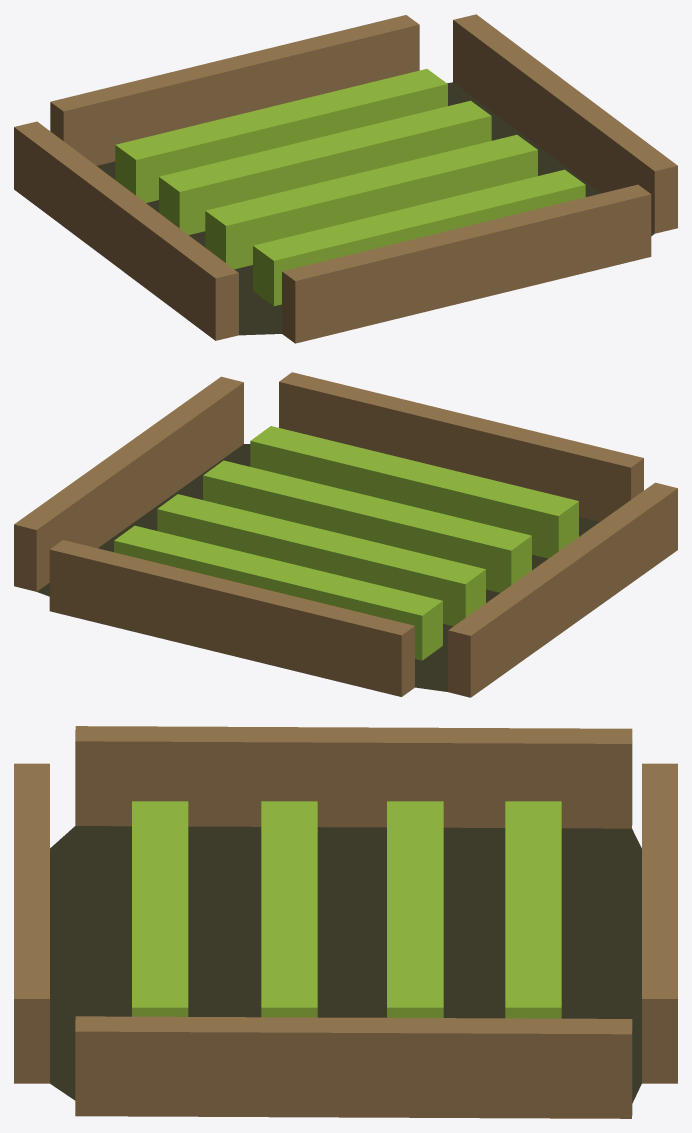
The model's file is Farm.FBX.
3 views of the same model, one above another, from view 1: azimuth 30°, elevation 25°; view 2: azimuth 150°, elevation 25°; view 3: azimuth 270°, elevation 25° (orthographic). The views are drawn at different scales.
Visible parts, largest first — view 1: Farm; view 2: Farm; view 3: Farm.
Boxes of the visible parts, x1,y1,x2,y2 form: Farm: (14,14,677,343); Farm: (14,372,677,697); Farm: (14,726,677,1118).
Size of the model in its own units: 128 by 16.35 by 116.
